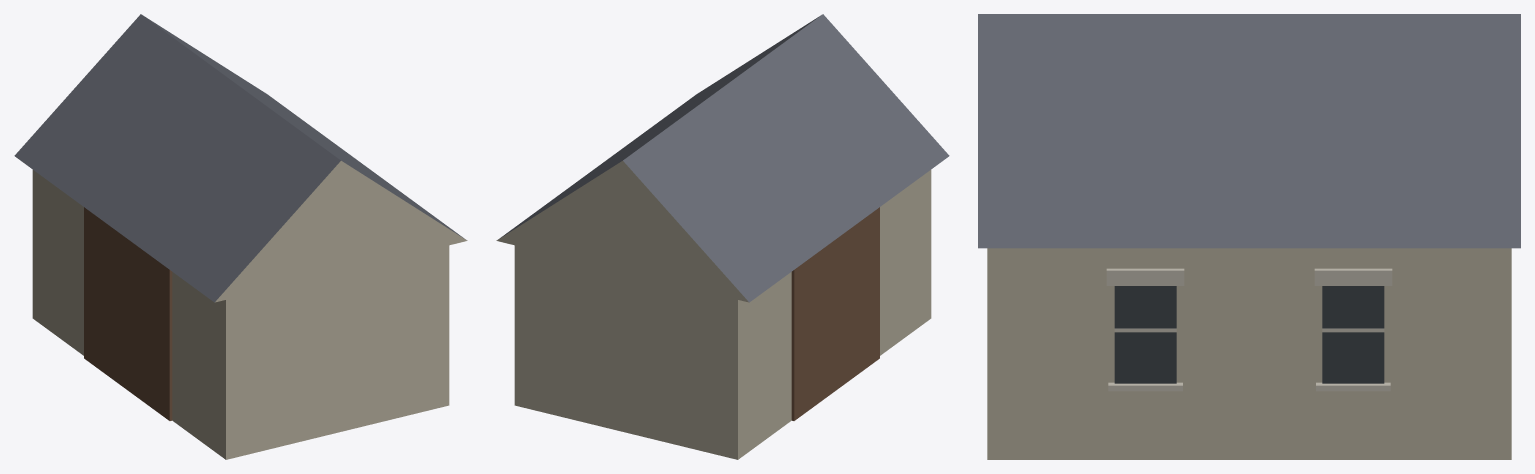
File: house_2009_indiana_rear_dwelling__draft_1904.glb
The picture shows the model from 3 angles, left to right: view 1: azimuth 30°, elevation 25°; view 2: azimuth 150°, elevation 25°; view 3: azimuth 270°, elevation 25°; orthographic projection. The views are drawn at different scales.
Parts seen in each view (by area): view 1: house_2009_indiana_rear_dwelling__draft_1904; view 2: house_2009_indiana_rear_dwelling__draft_1904; view 3: house_2009_indiana_rear_dwelling__draft_1904.
Part boxes in pixels (x1,y1,x2,y2): house_2009_indiana_rear_dwelling__draft_1904: (14, 14, 467, 459); house_2009_indiana_rear_dwelling__draft_1904: (496, 14, 949, 459); house_2009_indiana_rear_dwelling__draft_1904: (978, 14, 1520, 459).
Bounding box in the file's own units: 5.1 × 5.29 × 6.99.
